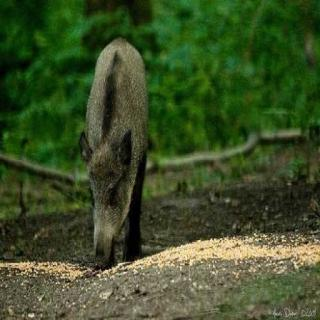Pig: (60, 19, 166, 265)
